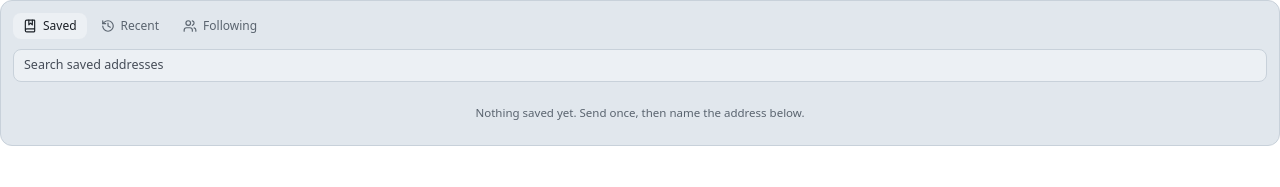
Test: what it offers › lists addresses already withdrawn to, newest first
The image size is (1280, 187).
Step 1. Click the button "Recent" → (130, 26), box [91,13,169,39]
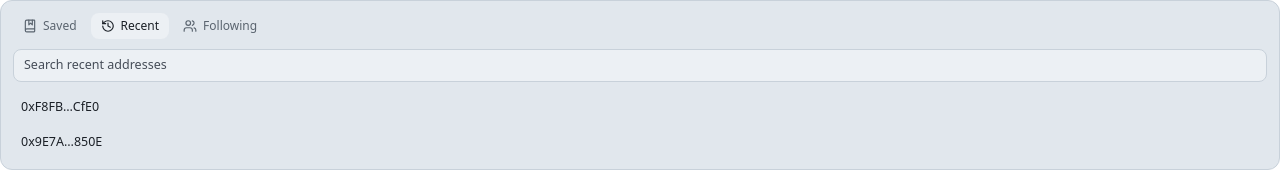
Expected: the button "0xF8FB…CfE0" is shown, [13,92,1267,123]
Expected: the button "0x9E7A…850E" is shown, [13,126,1267,157]
